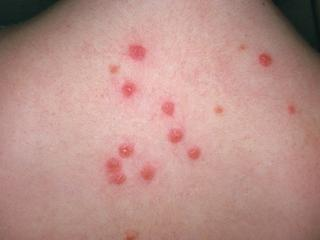Fleas: (101, 155, 127, 187), (135, 160, 159, 184), (124, 41, 148, 64), (118, 79, 138, 97), (158, 99, 174, 116), (256, 51, 273, 67), (167, 127, 182, 143), (186, 145, 202, 159), (213, 100, 225, 117), (119, 143, 133, 157), (109, 65, 118, 74), (237, 43, 245, 52), (125, 232, 135, 239), (288, 106, 295, 115)
